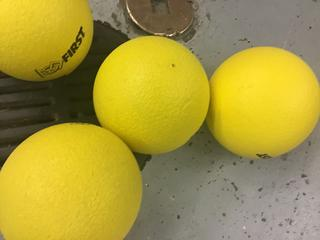power_cell: (1, 120, 141, 240), (79, 31, 211, 151), (206, 40, 317, 160), (1, 1, 92, 83)
